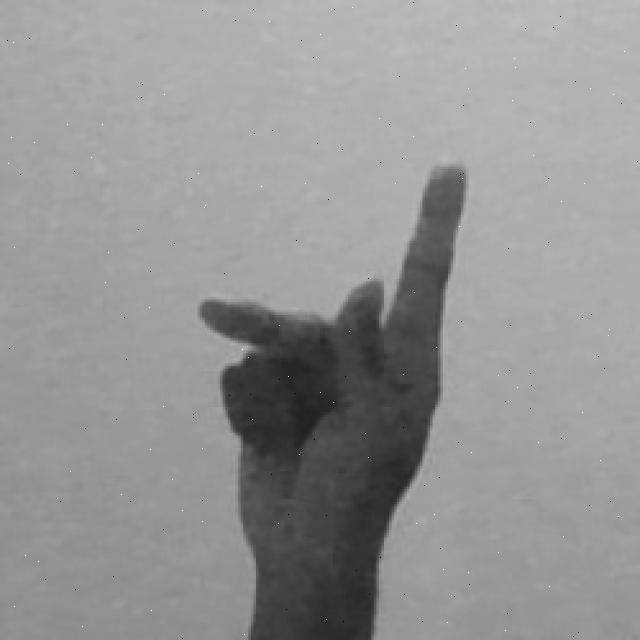K: (199, 161, 475, 640)
